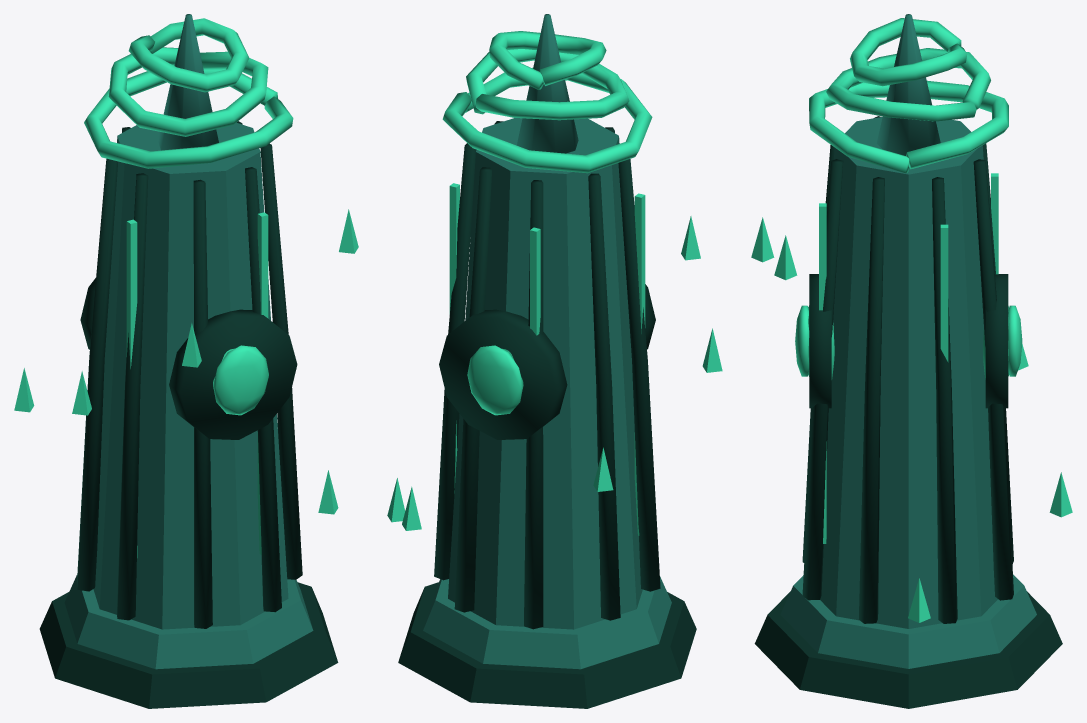
File: vortex_pillar.glb
3 renders of one model, left to right at view 1: azimuth 30°, elevation 25°; view 2: azimuth 150°, elevation 25°; view 3: azimuth 270°, elevation 25°, orthographic.
Parts seen in each view (by area): view 1: vortex_pillar; view 2: vortex_pillar; view 3: vortex_pillar.
Boxes of the visible parts, box(x1,y1,x2,y2) form: vortex_pillar: box(14, 14, 358, 708); vortex_pillar: box(387, 14, 722, 708); vortex_pillar: box(751, 14, 1072, 708).
Size of the model in its own units: 5.39 by 10.8 by 5.01.
